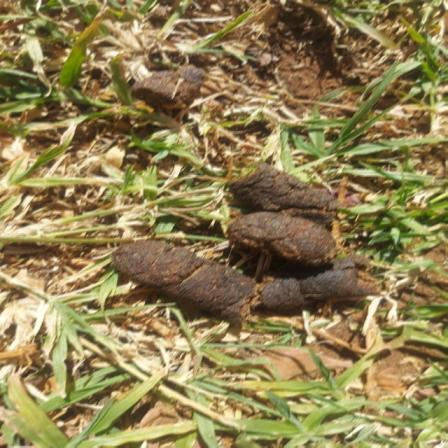dog-poop: (122, 149, 377, 308), (132, 65, 210, 109)
